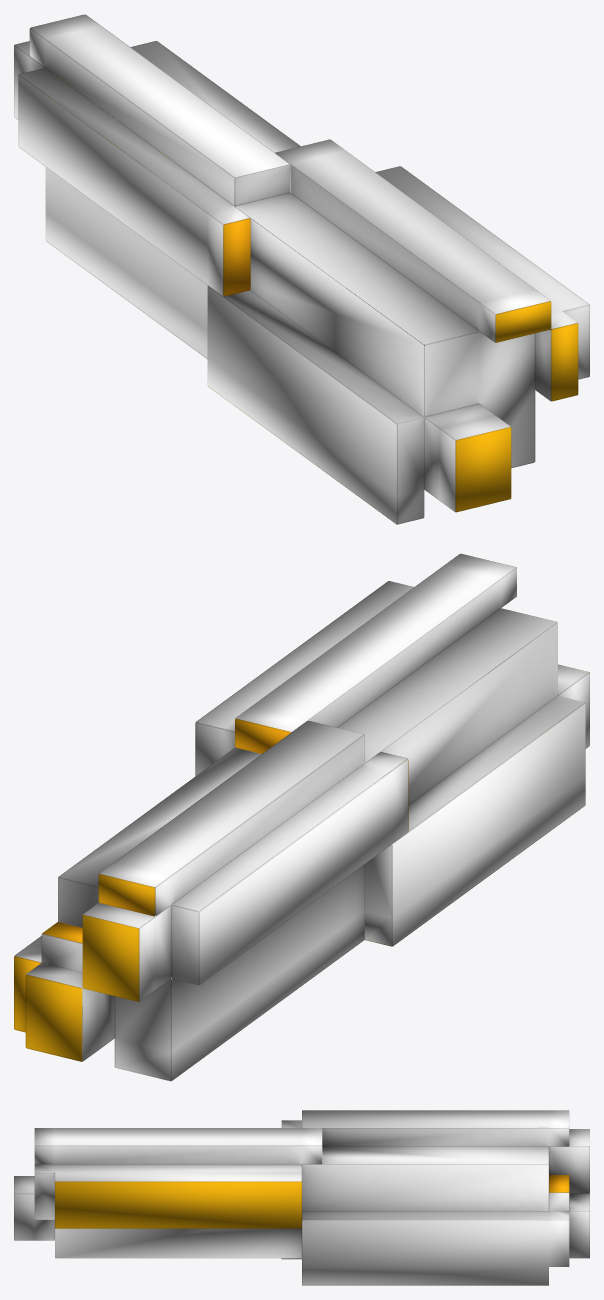
The model's file is ModelTest.obj.
3 renders of one model, top to bottom at view 1: azimuth 30°, elevation 25°; view 2: azimuth 150°, elevation 25°; view 3: azimuth 270°, elevation 25°, orthographic. The views are drawn at different scales.
Visible parts, largest first — view 1: Box004; view 2: Box004; view 3: Box004.
Boxes of the visible parts, x1,y1,x2,y2 form: Box004: (14,14,589,524); Box004: (14,553,589,1081); Box004: (14,1110,589,1285).
Bounding box in the file's own units: 70.81 × 70.66 × 281.
